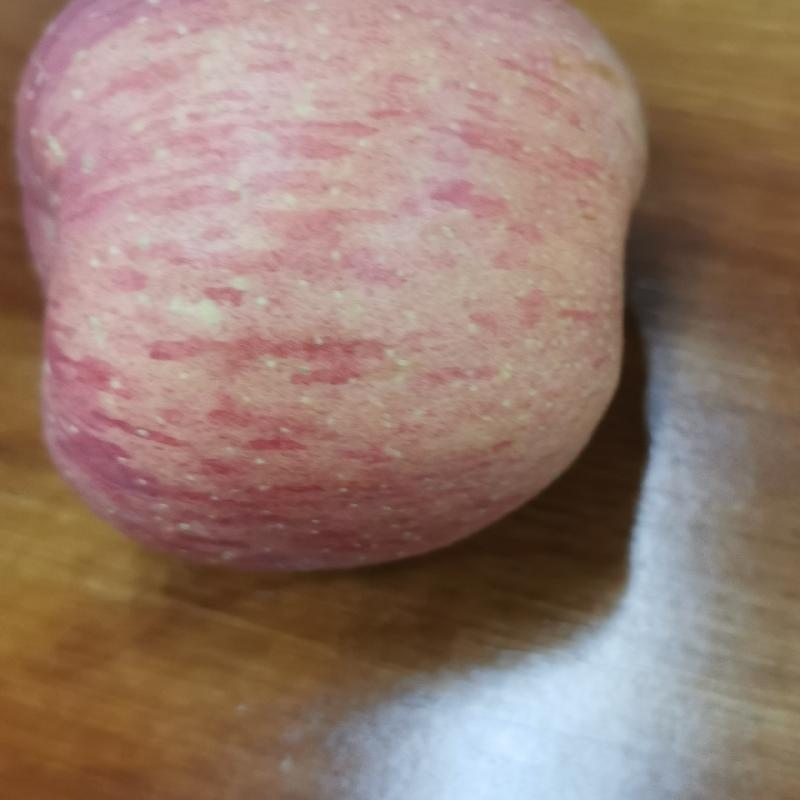apples: (13, 11, 662, 580)
